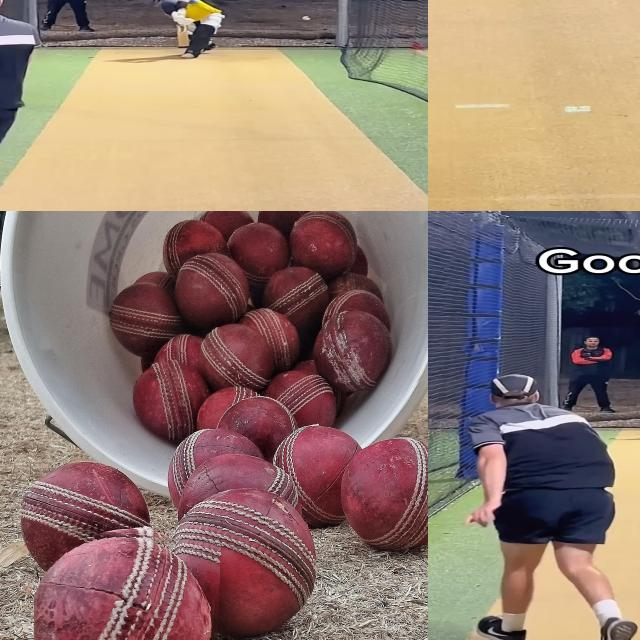Cricket ball: (33, 524, 221, 640), (340, 431, 428, 555), (126, 357, 206, 438), (172, 250, 248, 324), (287, 211, 359, 276), (301, 16, 311, 20)
